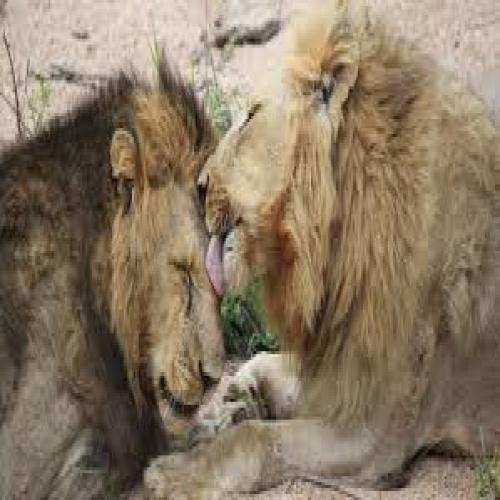lion-endangered: (142, 9, 500, 500), (0, 64, 230, 500)
